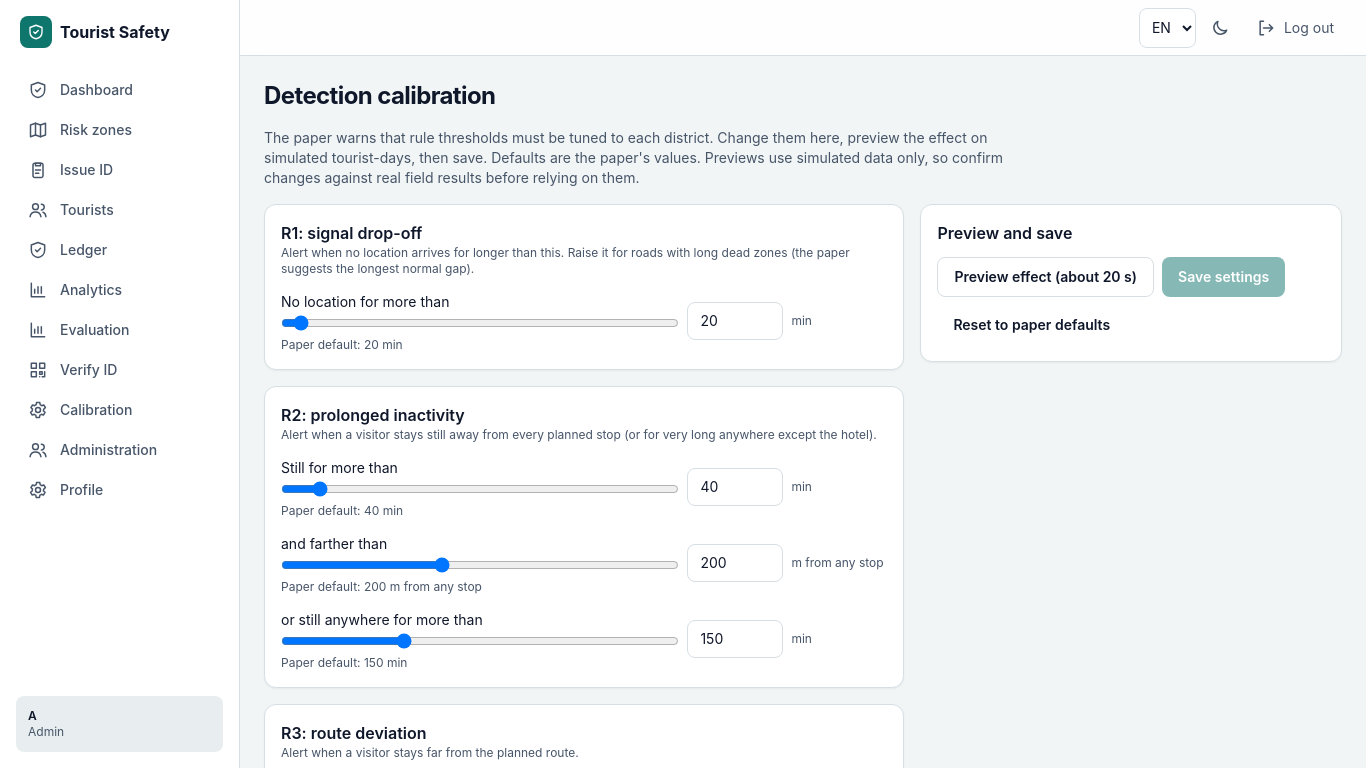
save sends all values and confirms
Clear the number field labelled "No location for more than" at coordinates (735, 321), box top-left (687, 302), bottom-right (783, 340)
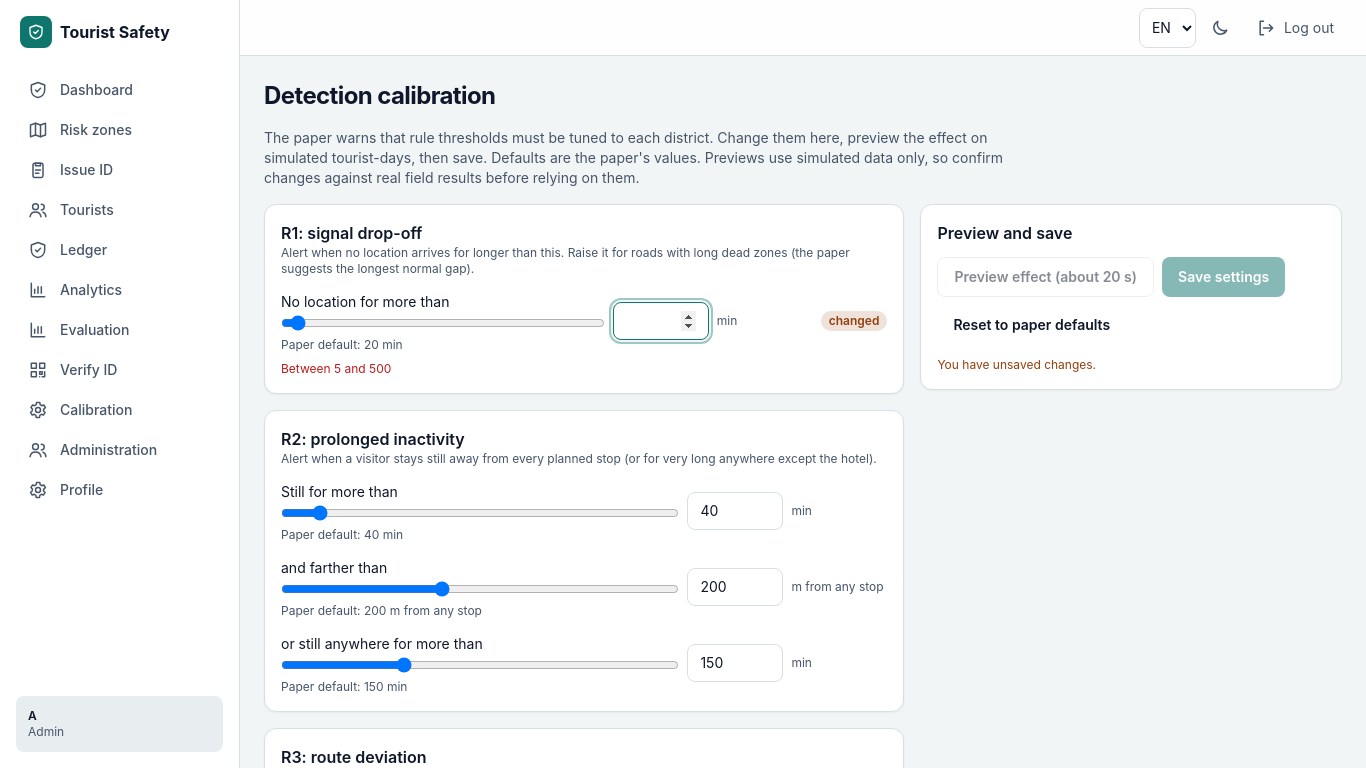
Type "45" into the number field labelled "No location for more than" at coordinates (661, 321), box top-left (613, 302), bottom-right (709, 340)
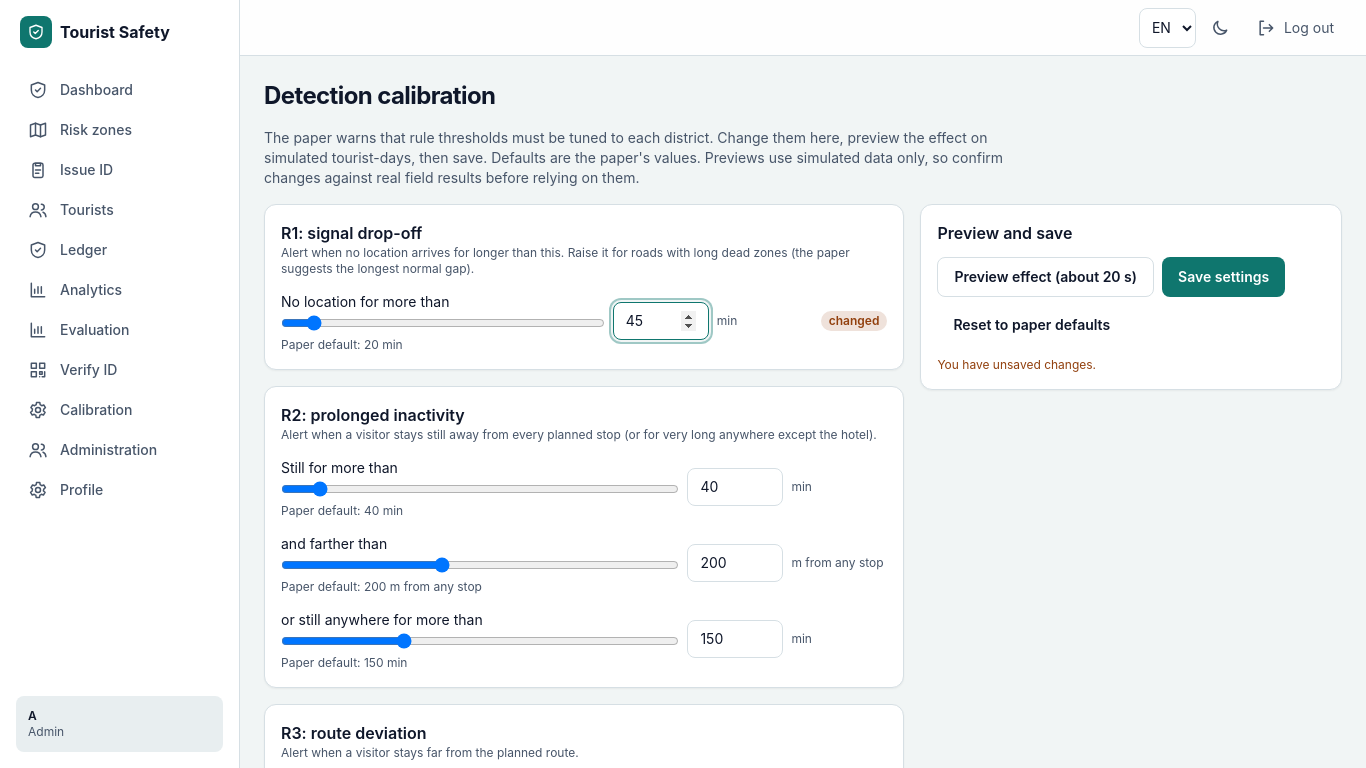
Click the button "Save settings" at coordinates (1224, 277), box top-left (1162, 257), bottom-right (1285, 297)
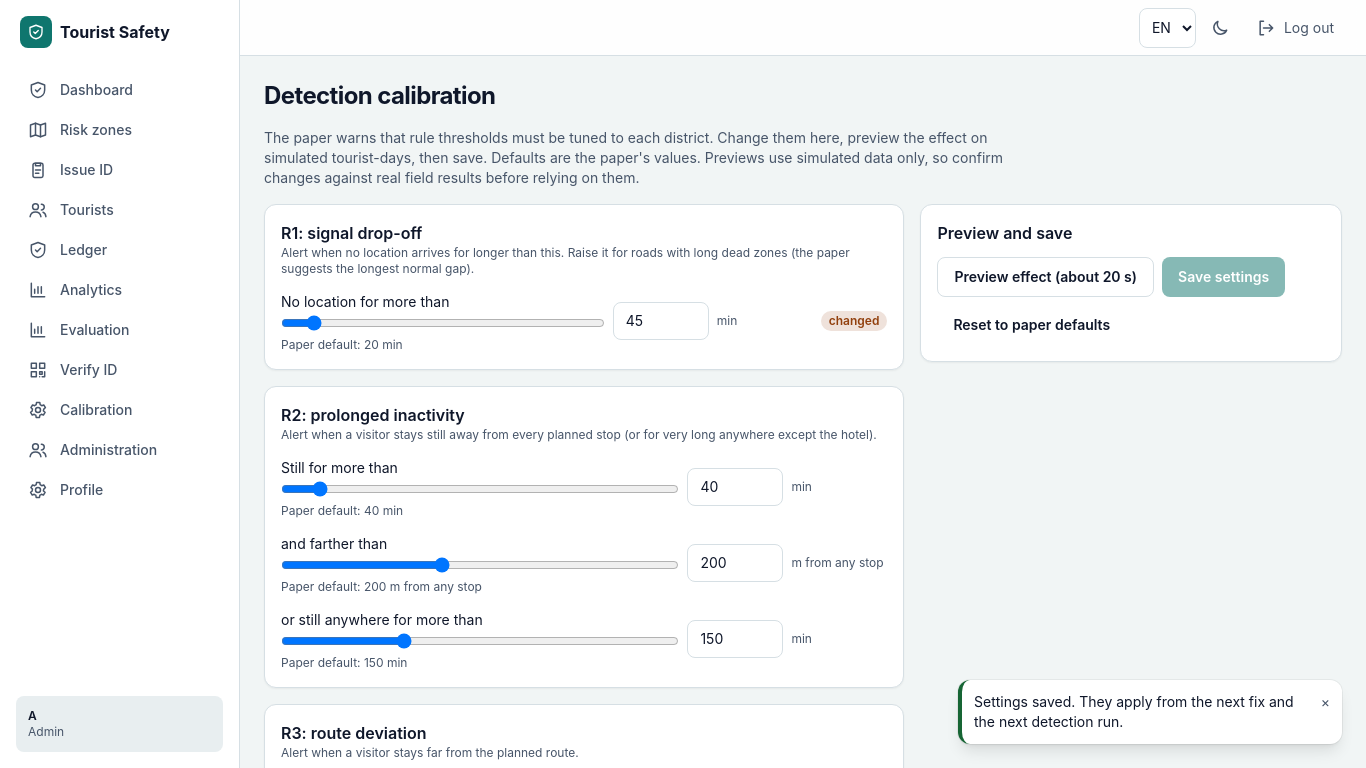
Check: the text "Settings saved" is shown, box top-left (974, 693), bottom-right (1294, 730)
Check: the button "Save settings" is disabled, box top-left (1162, 257), bottom-right (1285, 297)
